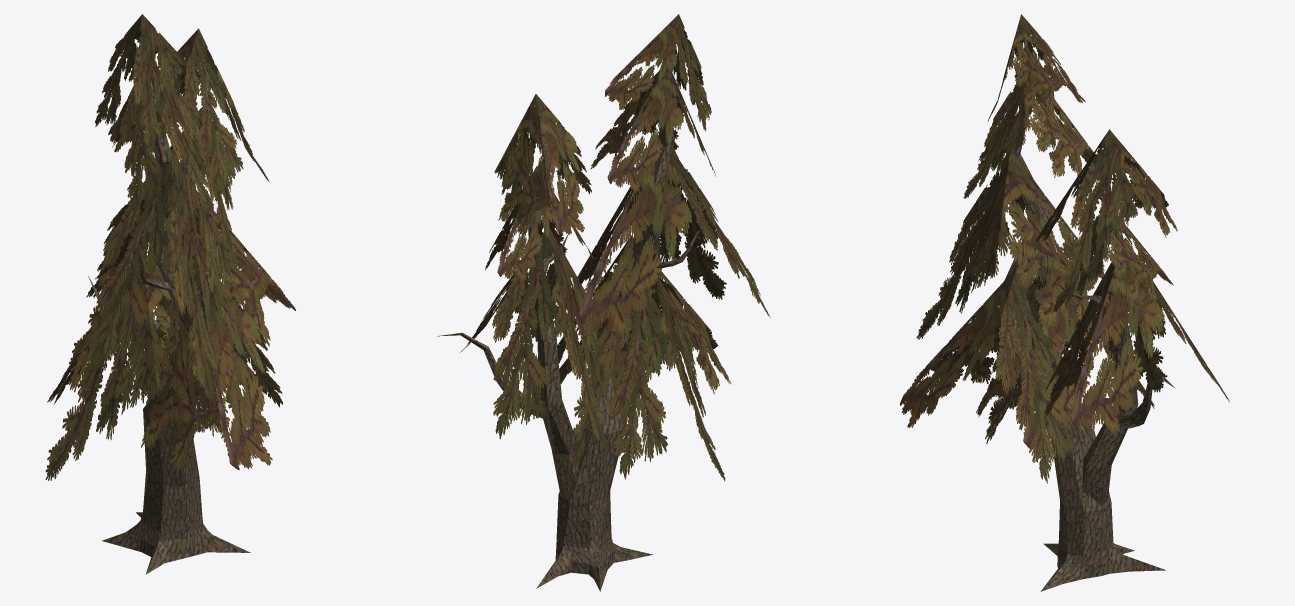
Rendered from Pine_Medium01.fbx.
The picture shows the model from 3 angles, left to right: view 1: azimuth 30°, elevation 25°; view 2: azimuth 150°, elevation 25°; view 3: azimuth 270°, elevation 25°; orthographic projection. The views are drawn at different scales.
Parts seen in each view (by area): view 1: Pine_Medium01; view 2: Pine_Medium01; view 3: Pine_Medium01.
Part boxes in pixels (bbox=[...]): Pine_Medium01: bbox=[45, 14, 295, 574]; Pine_Medium01: bbox=[437, 14, 770, 591]; Pine_Medium01: bbox=[900, 14, 1229, 591].
Size of the model in its own units: 10.42 by 15.41 by 11.48.
2 materials, 2 textured.
